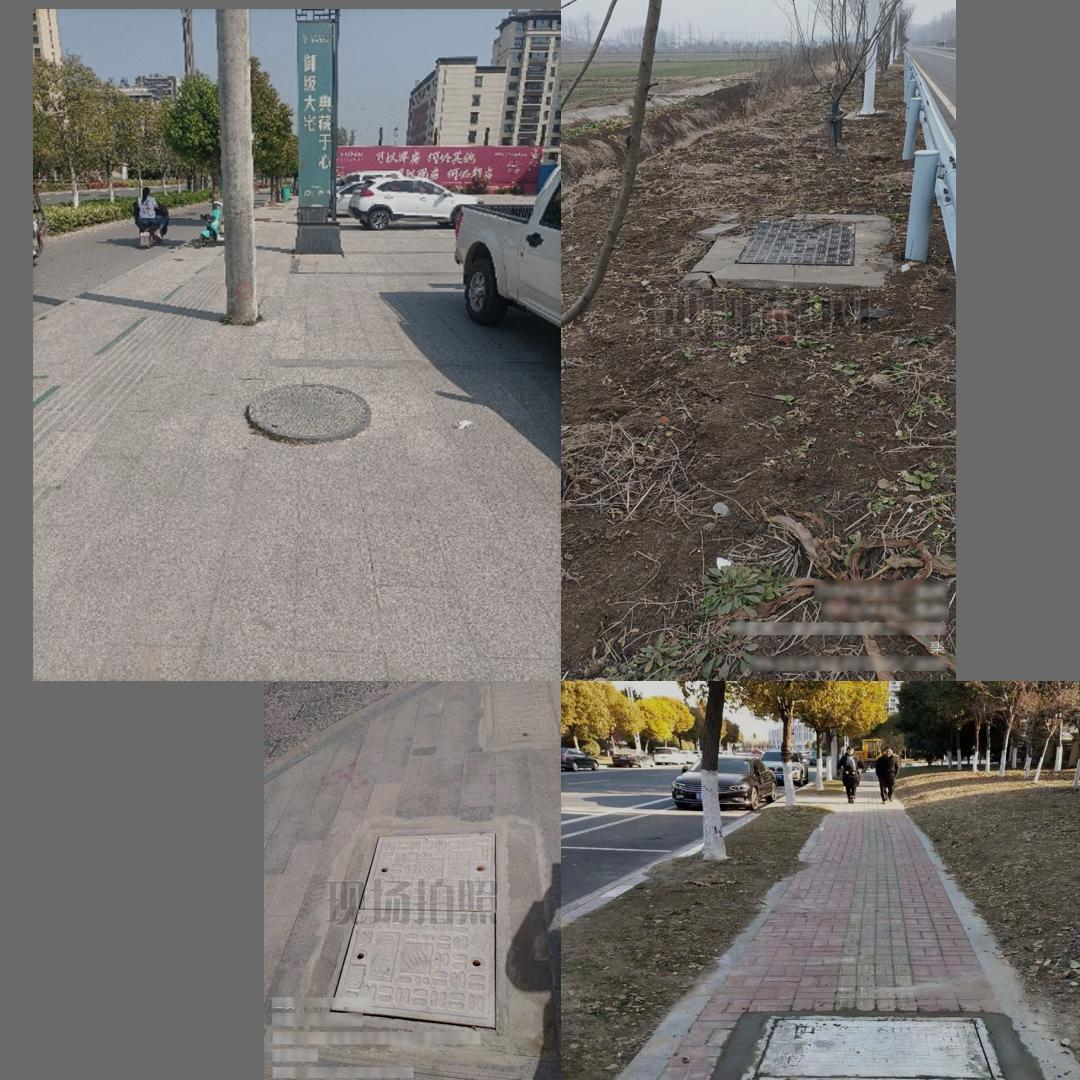good: (329, 827, 499, 1026), (701, 1015, 1038, 1080), (729, 208, 864, 267), (247, 382, 369, 443)
